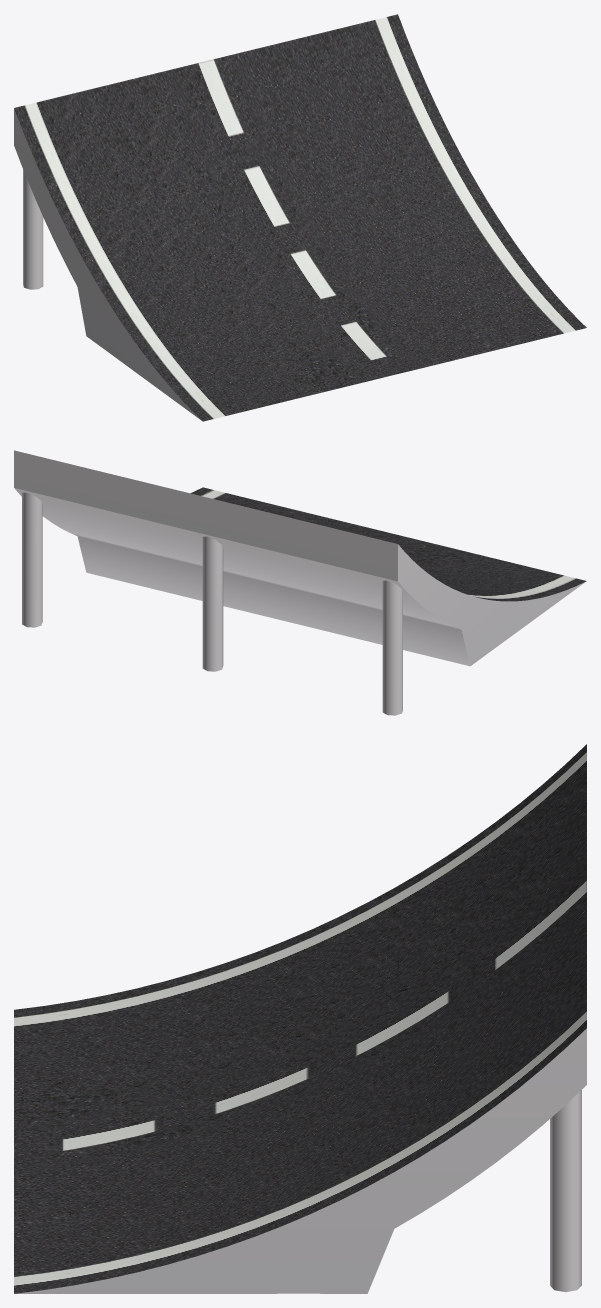
Rendered from ramp.fbx.
3 views of the same model, one above another, from view 1: azimuth 30°, elevation 25°; view 2: azimuth 150°, elevation 25°; view 3: azimuth 270°, elevation 25° (orthographic). The views are drawn at different scales.
Parts seen in each view (by area): view 1: ramp; view 2: ramp; view 3: ramp.
Part boxes in pixels (x1,y1,x2,y2): ramp: [14, 14, 586, 421]; ramp: [14, 450, 586, 715]; ramp: [14, 744, 586, 1293].
Bounding box in the file's own units: 324 × 142 × 277.
2 materials, 2 textured.
